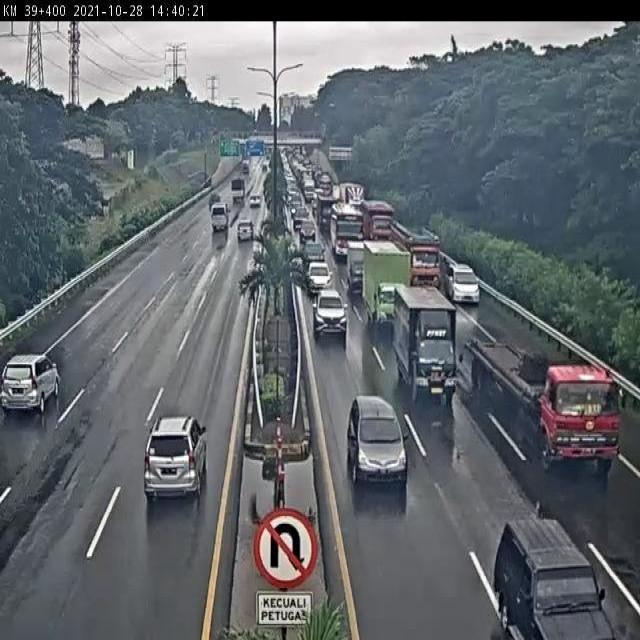big bus: (331, 207, 365, 260)
big truck: (464, 320, 622, 476)
car: (492, 521, 614, 640), (346, 396, 409, 485), (145, 415, 207, 497), (1, 352, 60, 408), (446, 253, 483, 306), (311, 288, 348, 336), (308, 262, 332, 294), (301, 242, 327, 270), (236, 217, 257, 243)
mid truck: (390, 217, 442, 291)
small bus: (211, 202, 231, 238)
small truck: (394, 288, 458, 401), (359, 233, 405, 320), (347, 244, 365, 291)
